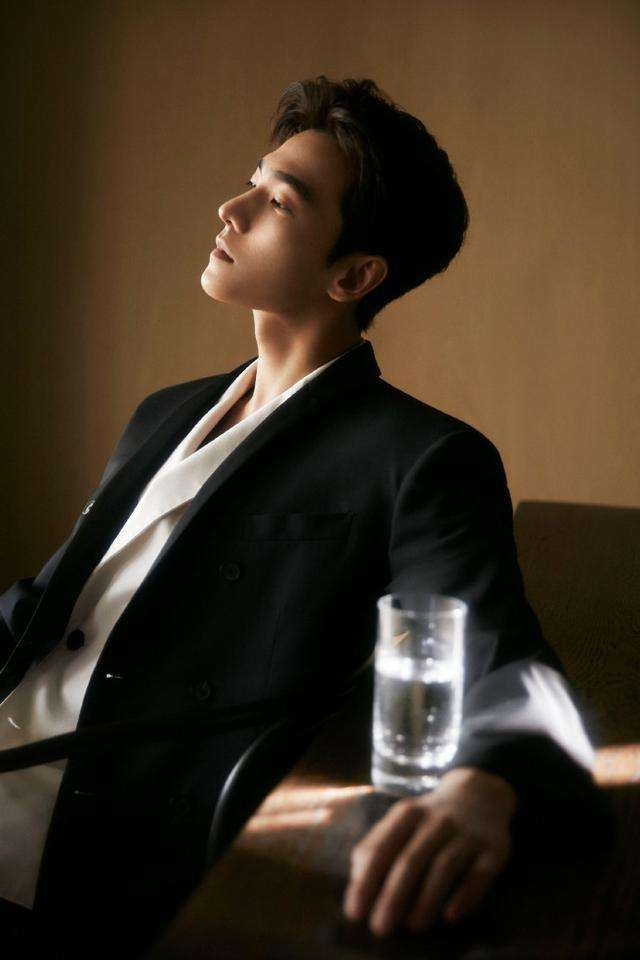person: (95, 109, 566, 738)
